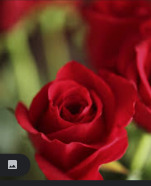RedRose: (9, 61, 138, 179)
